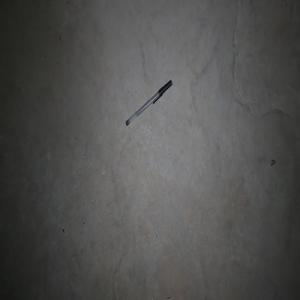Pen: (125, 79, 172, 126)
